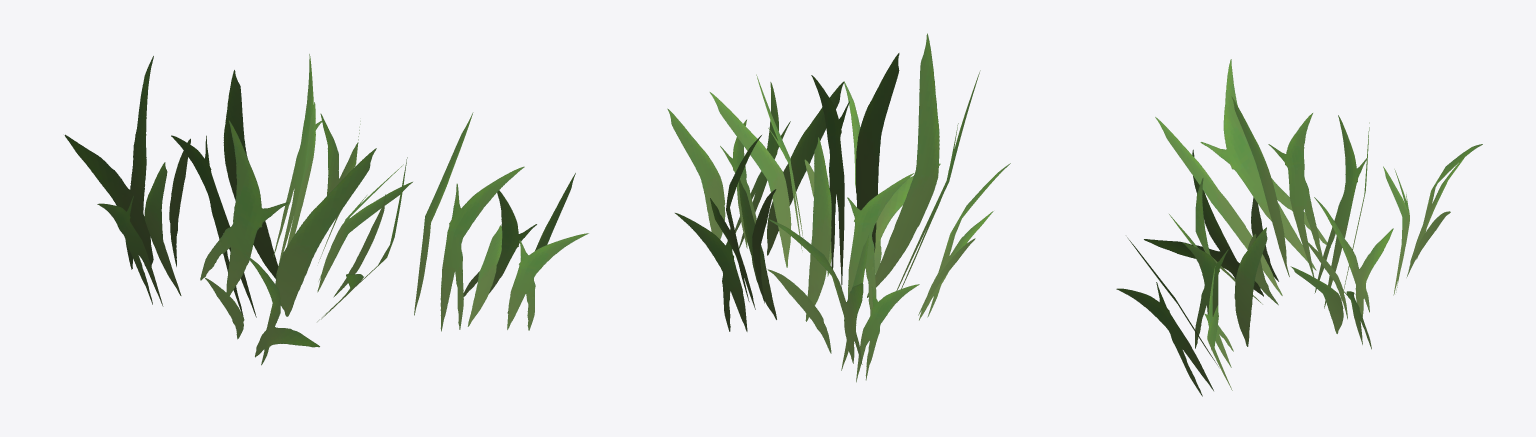
The model's file is Homeworld_Exterior_Common_Thing_Fishpond_F_01_Vo.fbx.
The picture shows the model from 3 angles, left to right: view 1: azimuth 30°, elevation 25°; view 2: azimuth 150°, elevation 25°; view 3: azimuth 270°, elevation 25°; orthographic projection. The views are drawn at different scales.
Parts seen in each view (by area): view 1: Homeworld_Exterior_Common_Thing_Fishpond_F_01_Vo; view 2: Homeworld_Exterior_Common_Thing_Fishpond_F_01_Vo; view 3: Homeworld_Exterior_Common_Thing_Fishpond_F_01_Vo.
Boxes of the visible parts, x1,y1,x2,y2 form: Homeworld_Exterior_Common_Thing_Fishpond_F_01_Vo: [64, 54, 588, 365]; Homeworld_Exterior_Common_Thing_Fishpond_F_01_Vo: [667, 33, 1010, 382]; Homeworld_Exterior_Common_Thing_Fishpond_F_01_Vo: [1116, 59, 1482, 396].
Size of the model in its own units: 1.05 by 0.8965 by 1.2.
